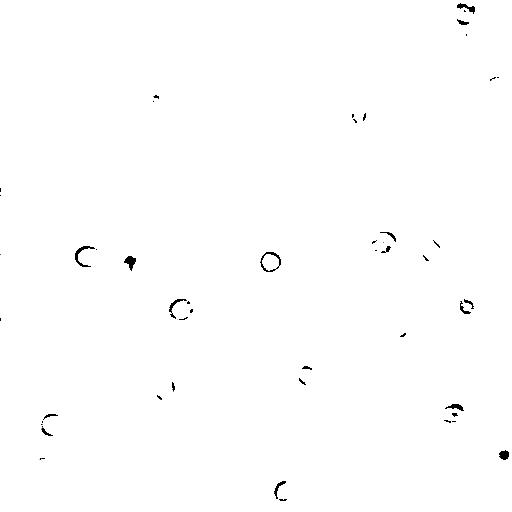micro-algae: (125, 419, 184, 475), (26, 333, 69, 376), (110, 244, 147, 281), (147, 252, 183, 283), (257, 277, 292, 305), (487, 437, 512, 475), (455, 374, 488, 402), (173, 367, 203, 397), (448, 24, 480, 50), (42, 382, 72, 409), (39, 412, 68, 439), (420, 237, 446, 266), (371, 229, 399, 255), (151, 373, 177, 400), (74, 244, 103, 268), (167, 298, 195, 322), (1, 242, 32, 263), (272, 478, 299, 502), (381, 321, 411, 342), (258, 250, 283, 274), (32, 456, 57, 479), (296, 364, 321, 387), (485, 73, 509, 96), (124, 253, 148, 276), (455, 2, 477, 27), (170, 0, 202, 16), (348, 101, 368, 124), (442, 404, 465, 423), (457, 297, 477, 315), (452, 1, 480, 8)
